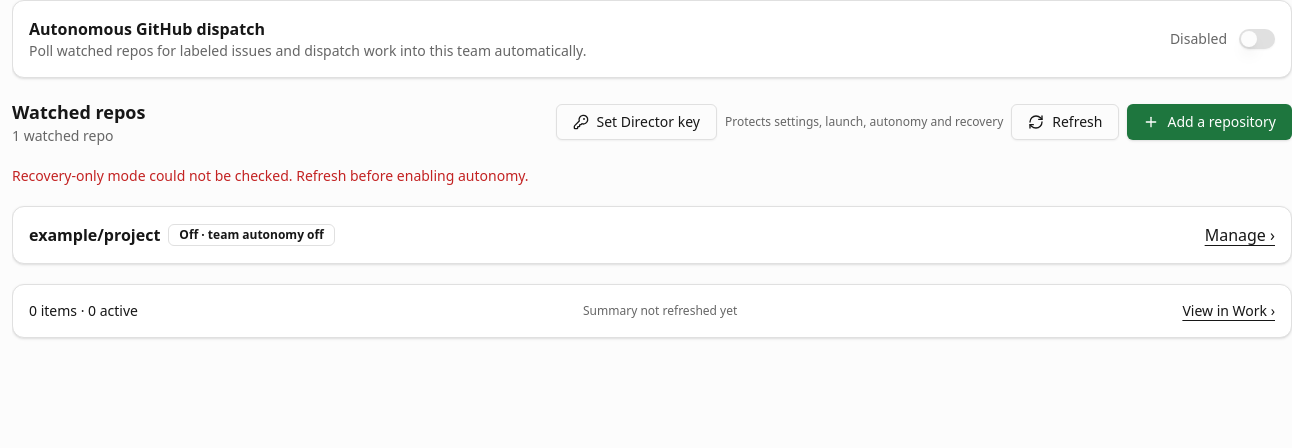
it: AutonomyPanel › recovers gate visibility after a failed status check and Refresh
Expected: the text "Recovery-only mode could not be checked. Refresh before enabling autonomy." is shown, [12, 166, 529, 185]
Click the switch named "Enable autonomous GitHub dispatch" at (1257, 39), box [1239, 29, 1275, 49]
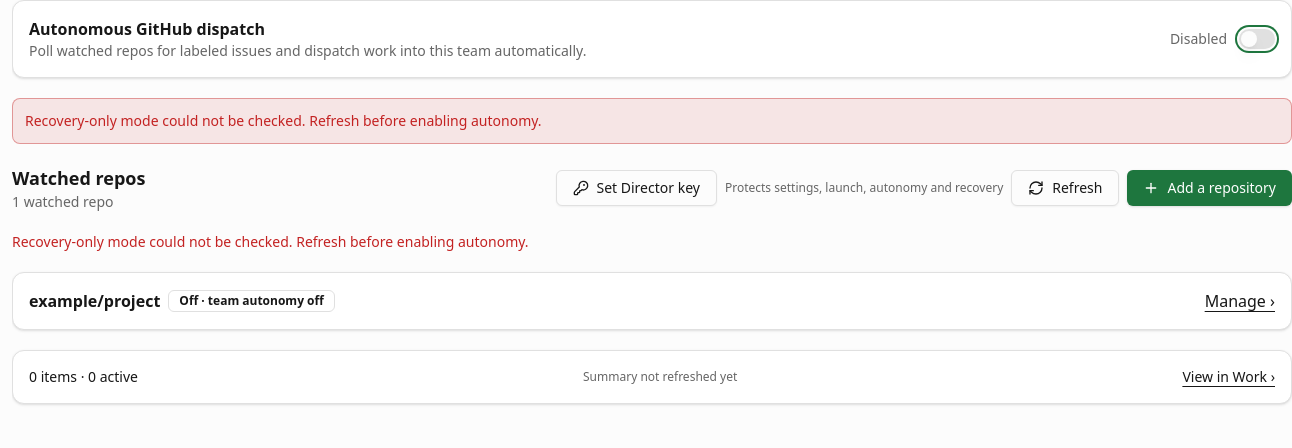
Click the button "Refresh" at (1065, 188), box [1011, 170, 1120, 206]
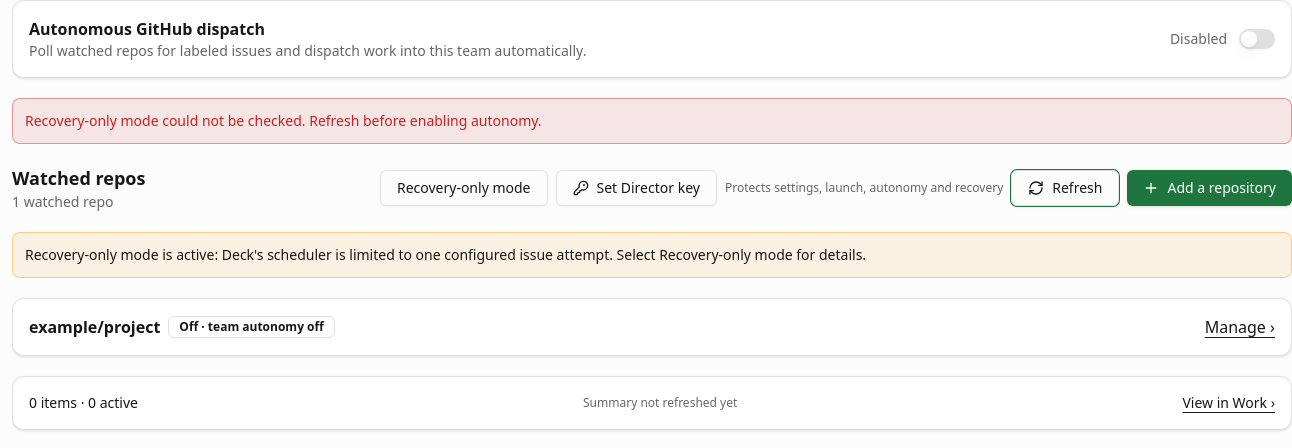
Now the button "Recovery-only mode" is shown, box [380, 170, 548, 206]
